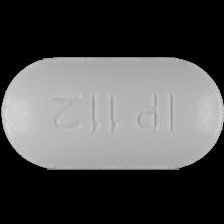67296-0492: (0, 0, 224, 224)
